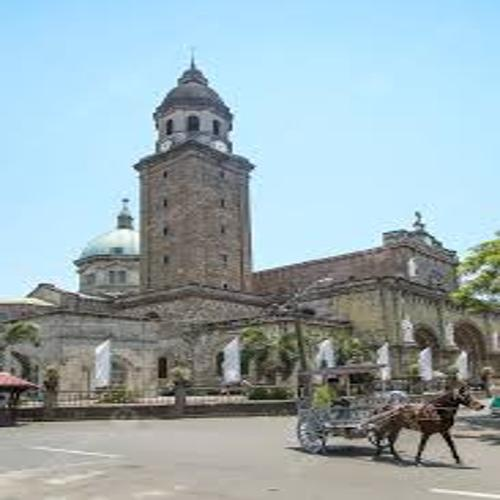Manila Cathedral Church: (5, 36, 495, 415)
